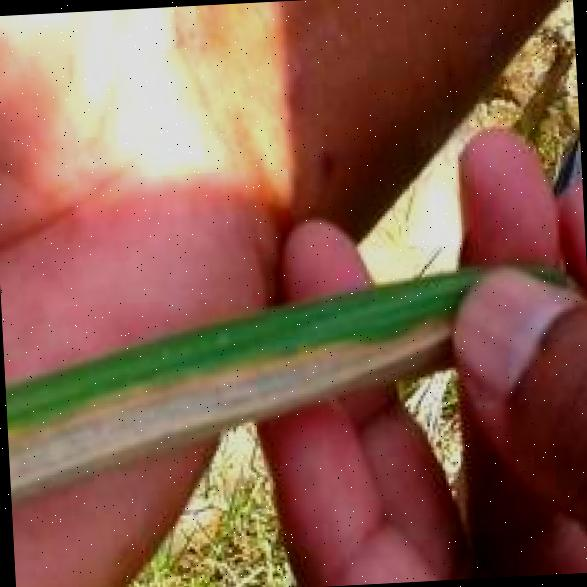Bacteria_Leaf_Blight: (51, 317, 502, 432)
